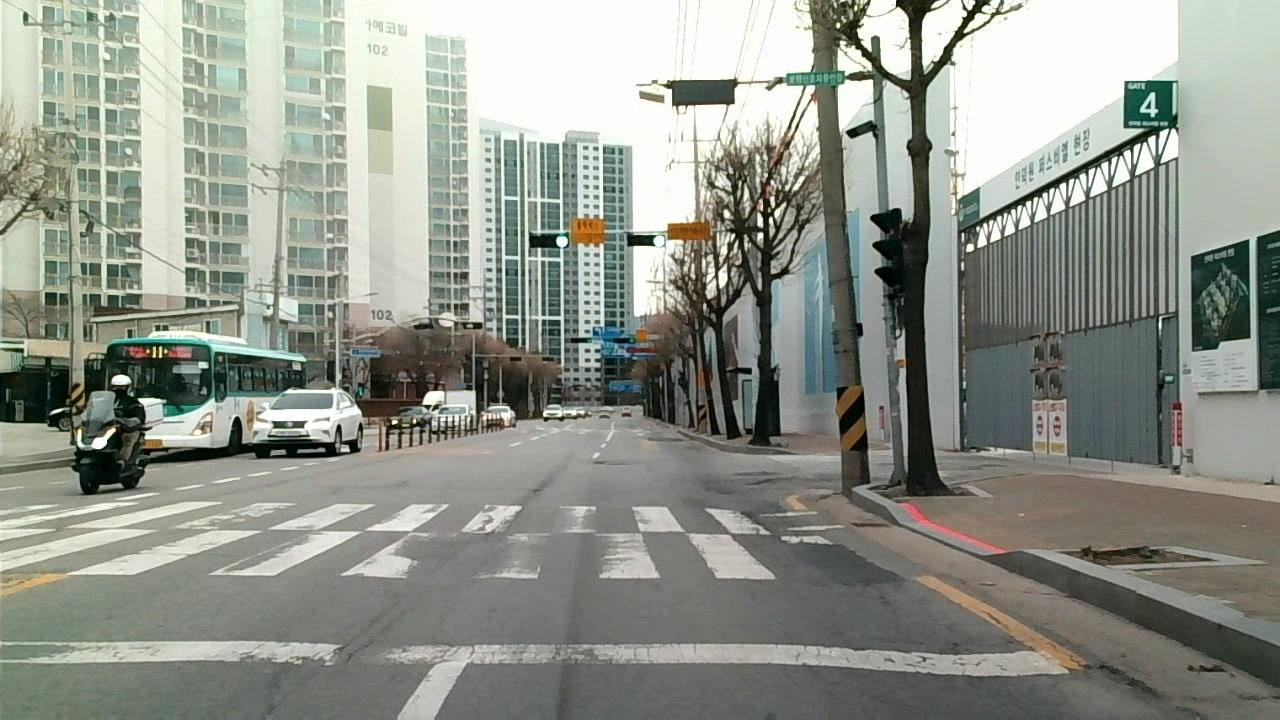banner: (1096, 664, 1205, 717), (325, 616, 393, 675), (740, 508, 785, 548)
